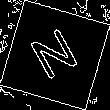N_SE: (25, 23, 85, 87)
